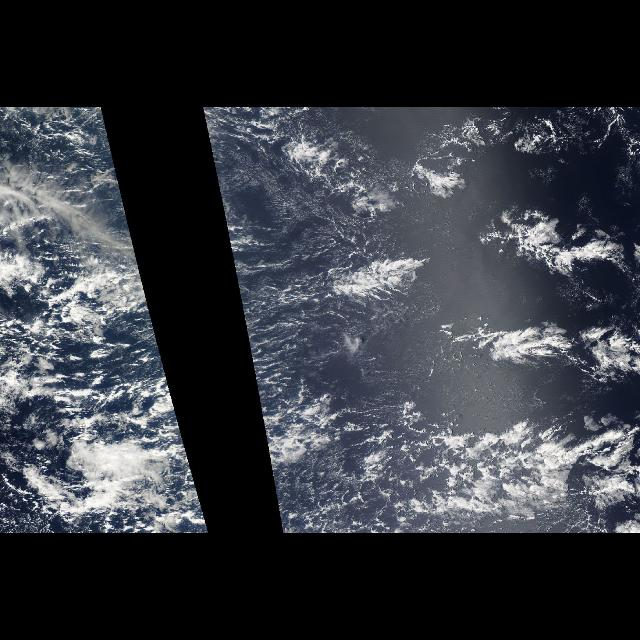Fish: (392, 208, 640, 520)
Sugar: (212, 162, 402, 376), (130, 228, 168, 376)
